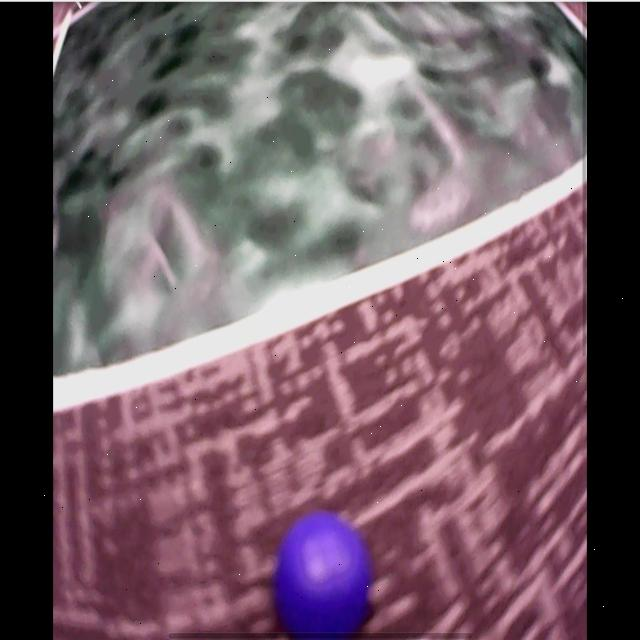ball: (280, 518, 369, 637)
